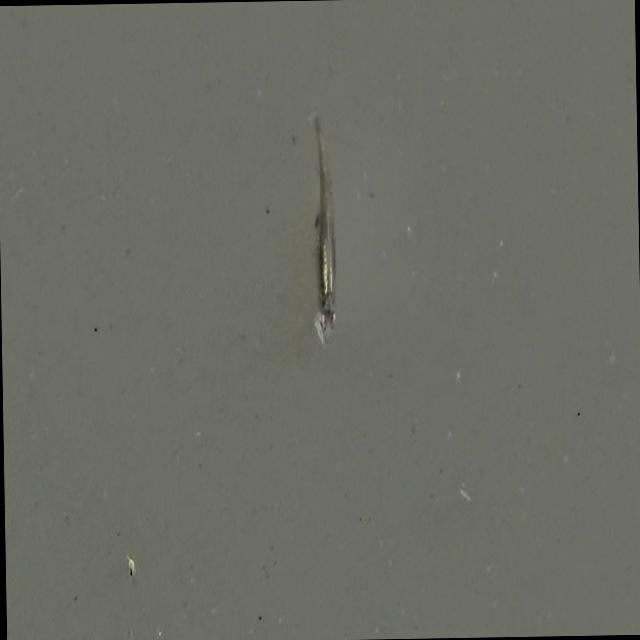Sivrisinek Baligi: (306, 119, 342, 338)
